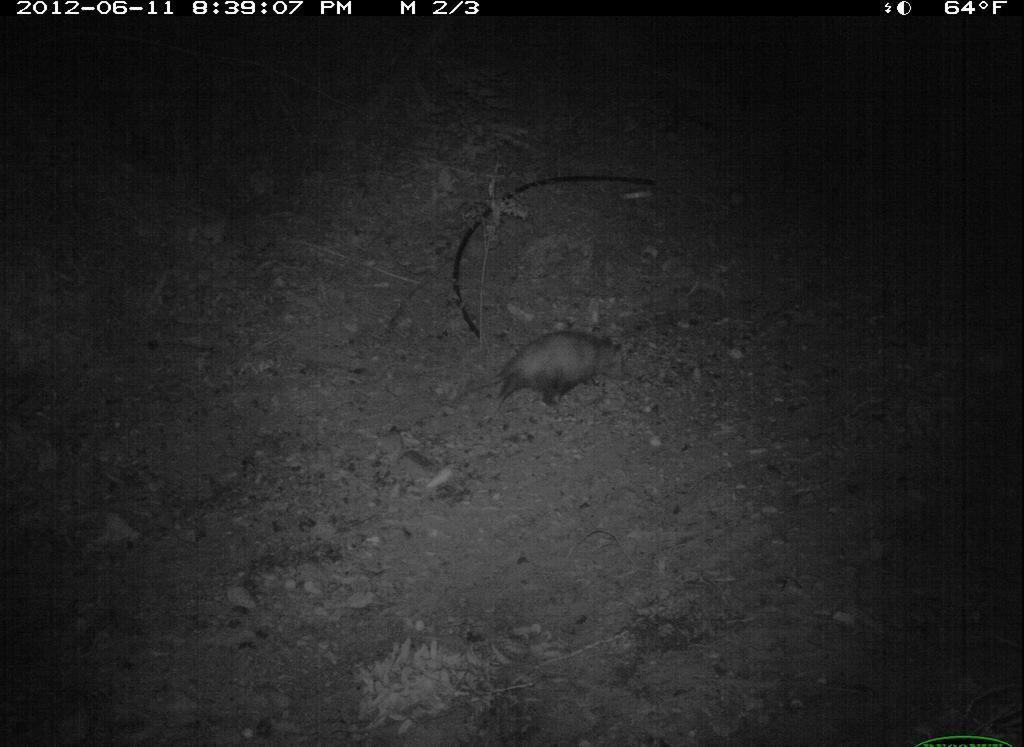opossum: (486, 324, 624, 405)
